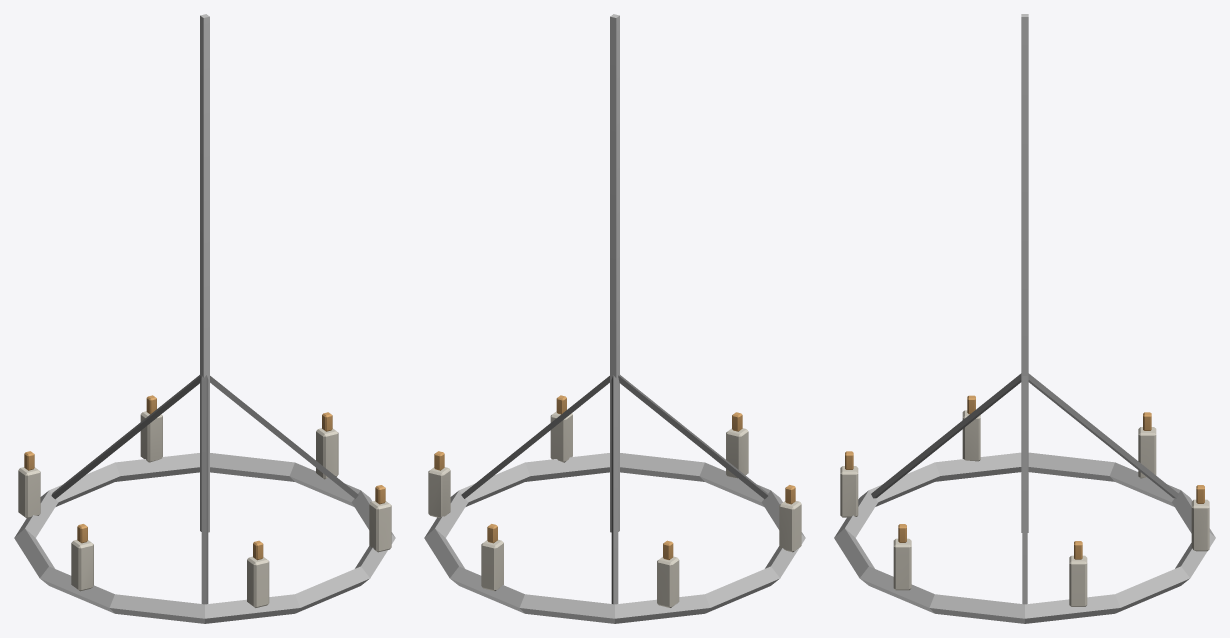
Rendered from chandelier_large.glb.
3 views of the same model, side by side, from view 1: azimuth 30°, elevation 25°; view 2: azimuth 150°, elevation 25°; view 3: azimuth 270°, elevation 25° (orthographic).
Visible parts, largest first — view 1: candle; view 2: candle; view 3: candle.
Part boxes in pixels (bbox=[...]): candle: bbox=[14, 14, 395, 623]; candle: bbox=[424, 14, 805, 623]; candle: bbox=[834, 14, 1215, 623].
Size of the model in its own units: 1.06 by 1.63 by 1.06.
